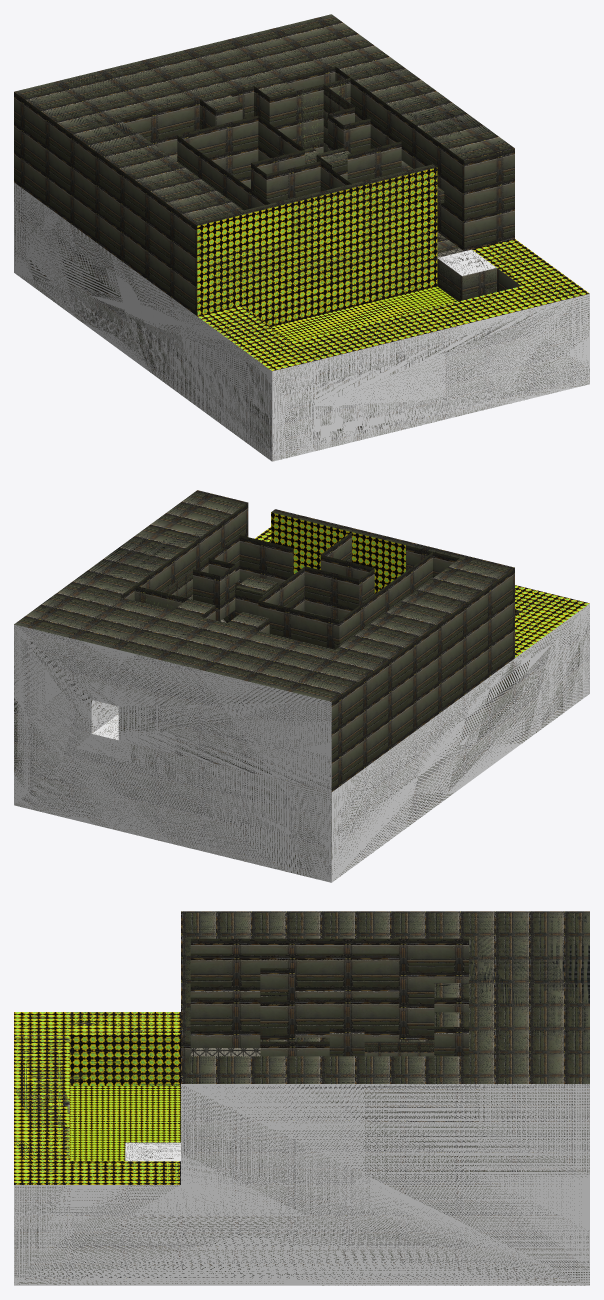
The model's file is maze2level.dae.
3 views of the same model, one above another, from view 1: azimuth 30°, elevation 25°; view 2: azimuth 150°, elevation 25°; view 3: azimuth 270°, elevation 25° (orthographic). The views are drawn at different scales.
Visible parts, largest first — view 1: SketchUp (×10); view 2: SketchUp (×7); view 3: SketchUp (×9).
Boxes of the visible parts, box(x1,y1,x2,y2) form: SketchUp (×10): box(14, 14, 589, 461); SketchUp (×7): box(14, 490, 589, 882); SketchUp (×9): box(14, 911, 589, 1285).
Bounding box in the file's own units: 1763 × 2483 × 960.
Materials: 22 (12 with a texture image).
